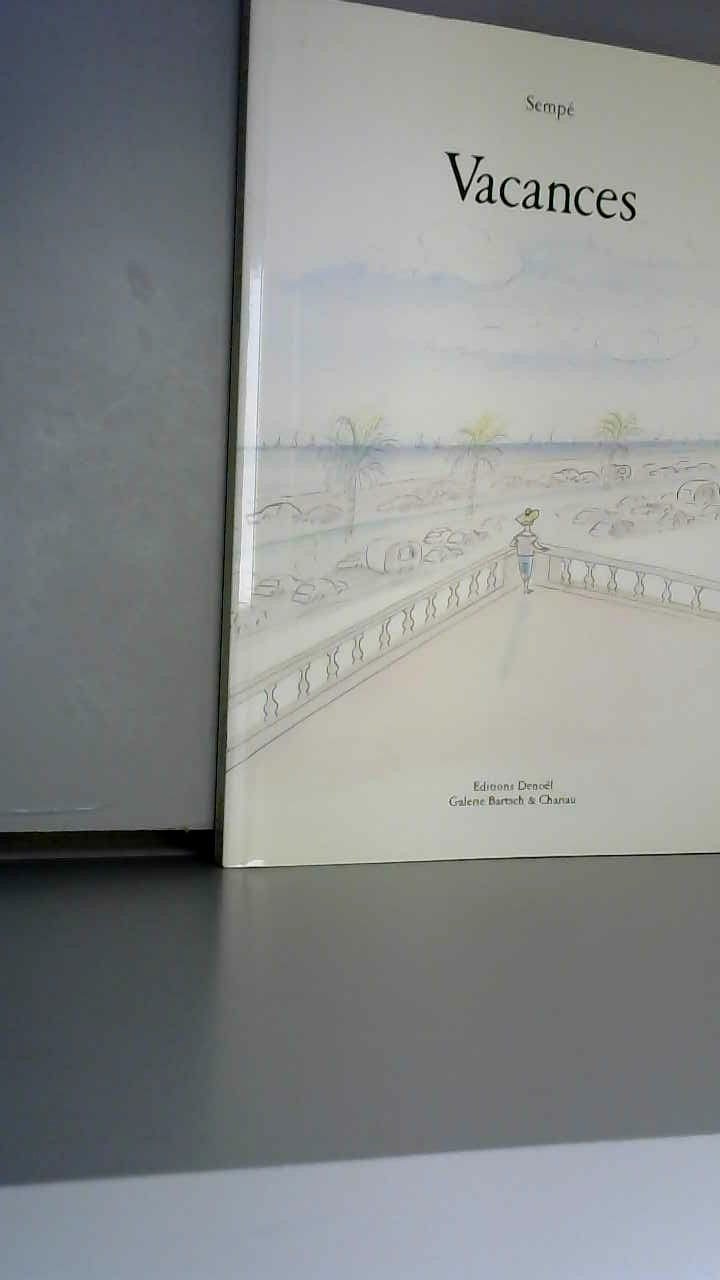book: (186, 0, 720, 894)
